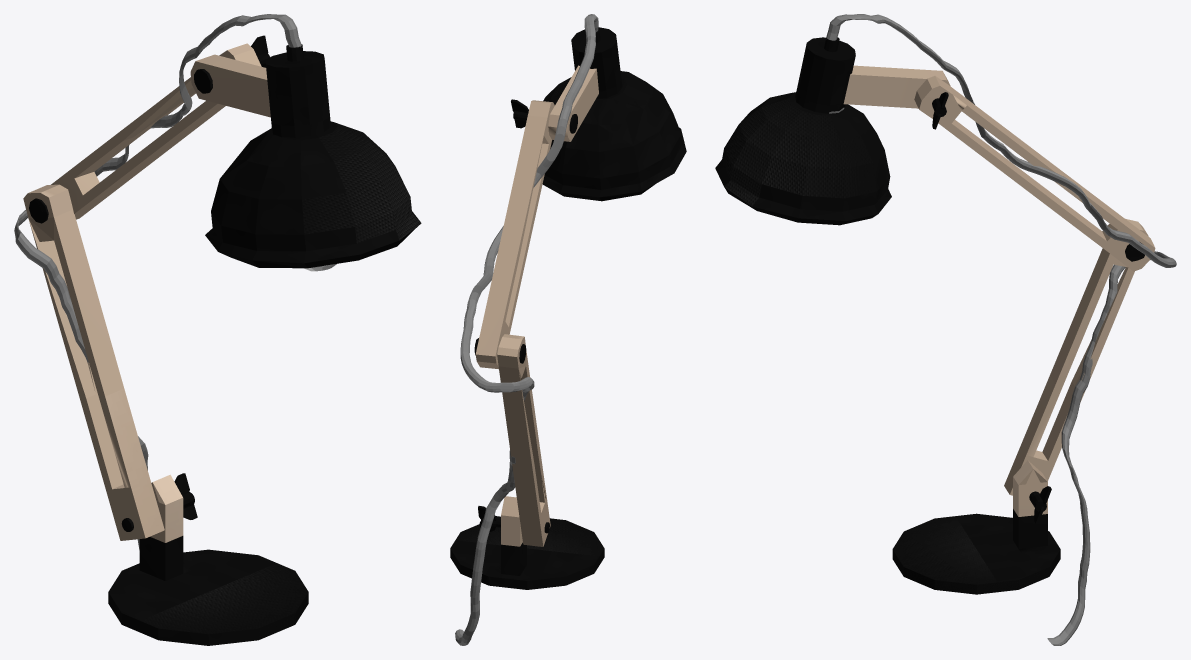
File: DeskLamp.obj
3 renders of one model, left to right at view 1: azimuth 30°, elevation 25°; view 2: azimuth 150°, elevation 25°; view 3: azimuth 270°, elevation 25°, orthographic. The views are drawn at different scales.
Visible parts, largest first — view 1: group289902031, group1667276076, group1982449423, group778822713, group1234694877, group67639701, group934490515; view 2: group289902031, group1667276076, group778822713, group67639701, group1982449423, group1234694877, group934490515; view 3: group289902031, group1667276076, group778822713, group67639701, group1982449423, group1234694877, group934490515.
Part boxes in pixels (<box>): group289902031: <box>205,121,421,268</box>; group1667276076: <box>108,474,308,645</box>; group1982449423: <box>23,184,164,540</box>; group778822713: <box>51,43,261,219</box>; group1234694877: <box>265,51,330,137</box>; group67639701: <box>14,14,301,549</box>; group934490515: <box>190,54,270,117</box>; group289902031: <box>542,71,686,201</box>; group1667276076: <box>450,496,604,589</box>; group778822713: <box>475,100,554,369</box>; group67639701: <box>455,14,598,645</box>; group1982449423: <box>497,334,550,546</box>; group1234694877: <box>571,27,622,99</box>; group934490515: <box>548,65,598,141</box>; group289902031: <box>715,92,891,225</box>; group1667276076: <box>892,460,1060,594</box>; group778822713: <box>914,76,1155,271</box>; group67639701: <box>826,14,1176,645</box>; group1982449423: <box>1004,218,1148,495</box>; group1234694877: <box>795,37,855,113</box>; group934490515: <box>843,65,950,108</box>.
Bounding box in the file's own units: 0.3454 × 1.25 × 0.851.
Materials: 4 (4 with a texture image).
